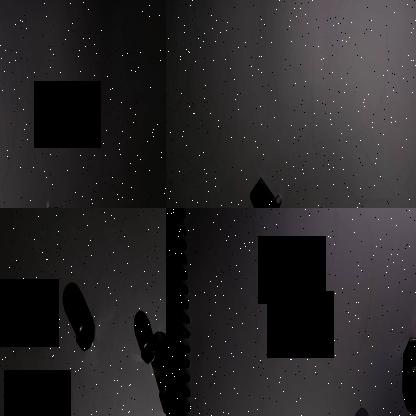Bolts: (256, 170, 283, 208)
NUTS: (74, 310, 96, 356), (400, 332, 416, 381), (136, 339, 159, 364), (158, 371, 166, 416)
